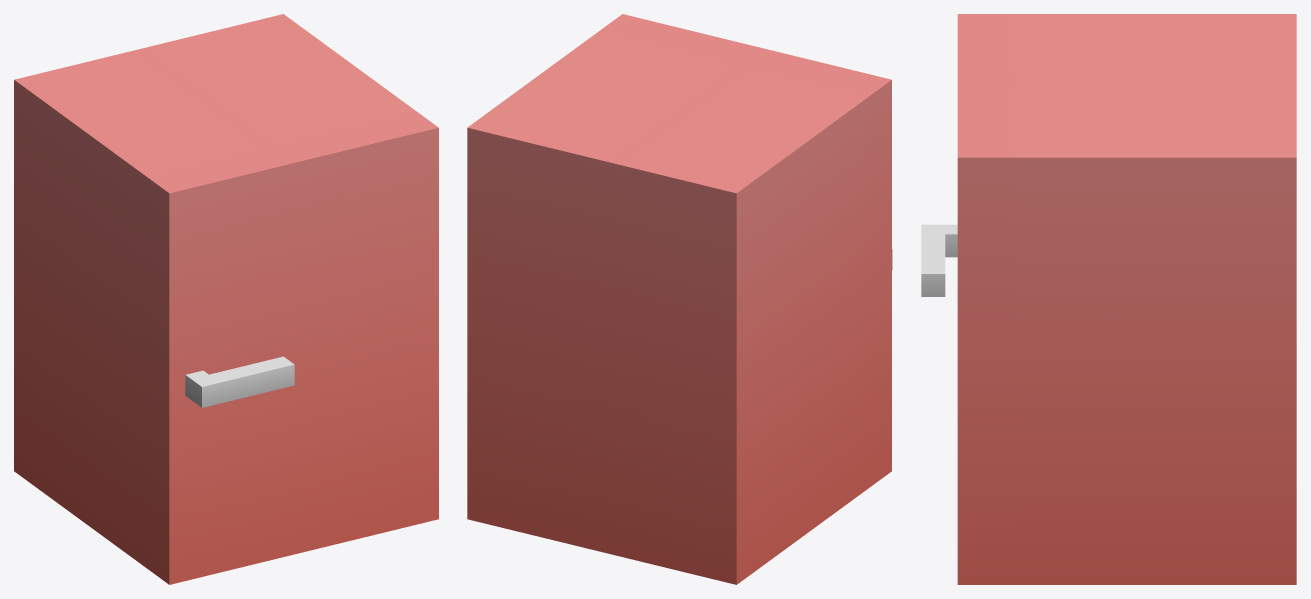
Rendered from Fridge_cherry.fbx.
3 views of the same model, side by side, from view 1: azimuth 30°, elevation 25°; view 2: azimuth 150°, elevation 25°; view 3: azimuth 270°, elevation 25° (orthographic). The views are drawn at different scales.
Visible parts, largest first — view 1: Fridge_Door.cherry, Fridge.cherry; view 2: Fridge.cherry, Fridge_Door.cherry; view 3: Fridge.cherry, Fridge_Door.cherry.
Part boxes in pixels (x1=…): Fridge_Door.cherry: x1=143, y1=108, x2=438, y2=584; Fridge.cherry: x1=14, y1=14, x2=412, y2=565; Fridge.cherry: x1=467, y1=33, x2=865, y2=584; Fridge_Door.cherry: x1=597, y1=14, x2=892, y2=489; Fridge.cherry: x1=1014, y1=14, x2=1296, y2=584; Fridge_Door.cherry: x1=921, y1=14, x2=1014, y2=584.
Size of the model in its own units: 89.99 by 125 by 99.53.
